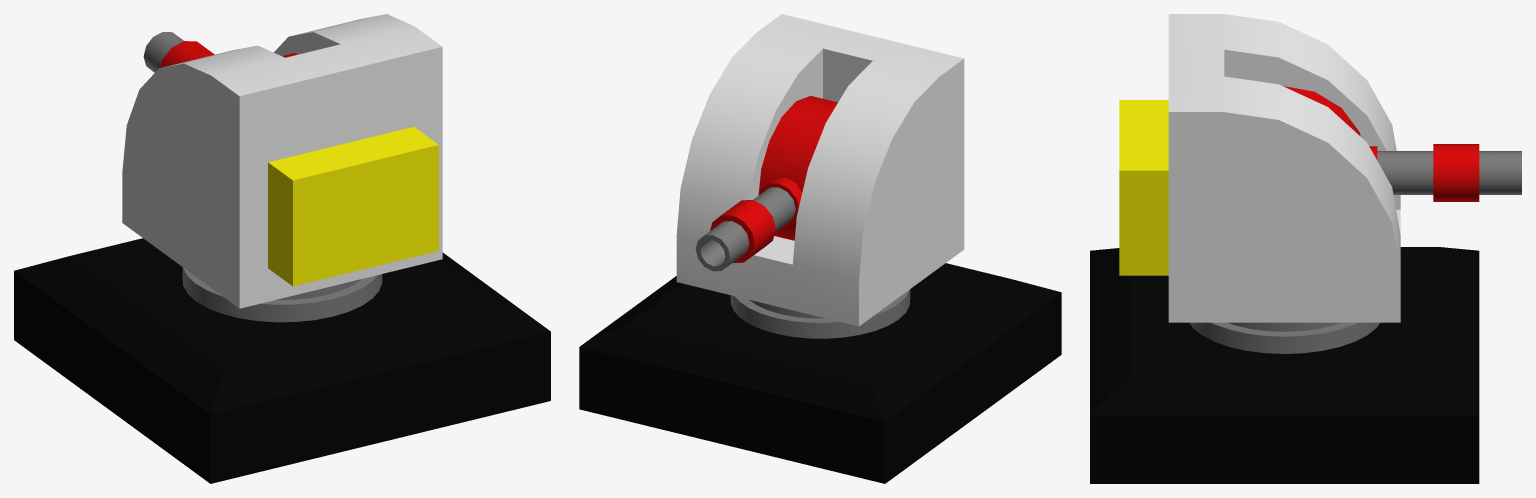
Rendered from turret1_1.fbx.
3 renders of one model, left to right at view 1: azimuth 30°, elevation 25°; view 2: azimuth 150°, elevation 25°; view 3: azimuth 270°, elevation 25°, orthographic. The views are drawn at different scales.
Parts seen in each view (by area): view 1: Cube.027, Cube.024, Cylinder.009, Cylinder.048; view 2: Cube.027, Cube.024, Cylinder.048, Cylinder.047, Cylinder.009; view 3: Cube.024, Cube.027, Cylinder.048, Cylinder.009, Cylinder.047.
Part boxes in pixels (x1=…): Cube.027: x1=14, y1=238, x2=550, y2=483; Cube.024: x1=122, y1=14, x2=442, y2=308; Cylinder.009: x1=182, y1=267, x2=382, y2=322; Cylinder.048: x1=143, y1=32, x2=214, y2=72; Cube.027: x1=579, y1=263, x2=1061, y2=483; Cube.024: x1=676, y1=14, x2=964, y2=326; Cylinder.048: x1=695, y1=177, x2=801, y2=271; Cylinder.047: x1=758, y1=96, x2=837, y2=240; Cylinder.009: x1=730, y1=289, x2=910, y2=338; Cube.024: x1=1119, y1=14, x2=1400, y2=322; Cube.027: x1=1090, y1=247, x2=1479, y2=483; Cylinder.048: x1=1369, y1=144, x2=1521, y2=201; Cylinder.009: x1=1189, y1=322, x2=1379, y2=353; Cylinder.047: x1=1283, y1=86, x2=1360, y2=136.
Size of the model in its own units: 360 by 345 by 399.
